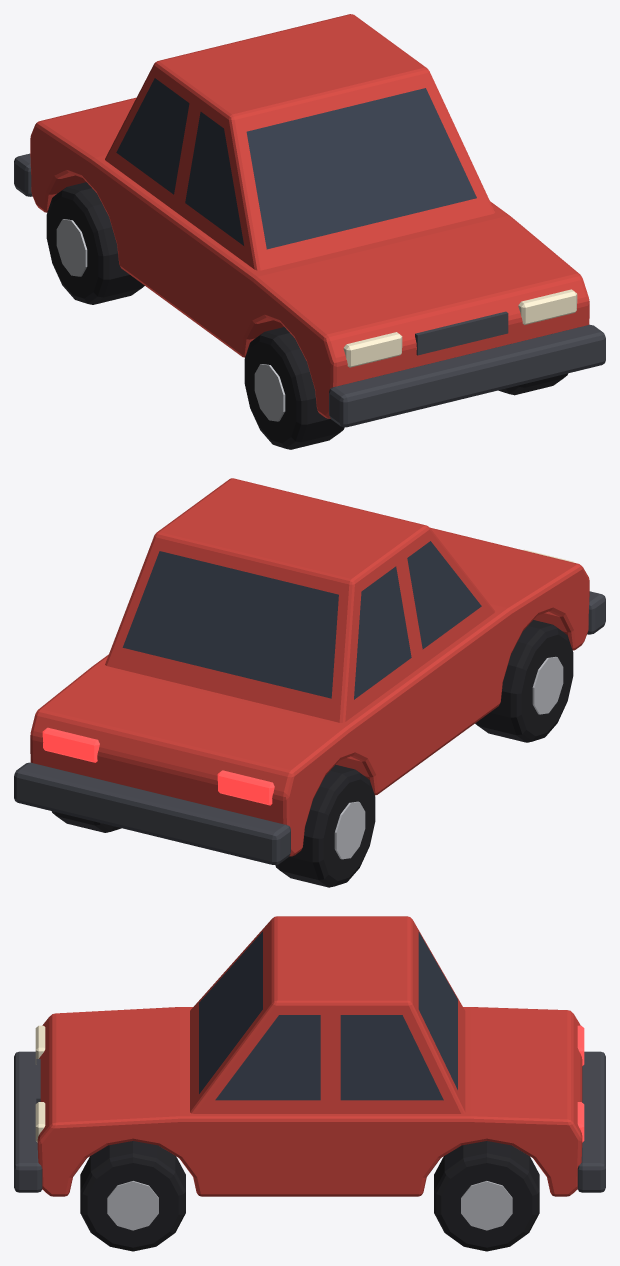
The model's file is Sedan.fbx.
3 views of the same model, one above another, from view 1: azimuth 30°, elevation 25°; view 2: azimuth 150°, elevation 25°; view 3: azimuth 270°, elevation 25° (orthographic). The views are drawn at different scales.
Visible parts, largest first — view 1: Body, Windows, BumperFront, WheelFR, WheelRR, Grille, HeadlightL, HeadlightR, HubcapFR, HubcapRR, BumperRear; view 2: Body, Windows, BumperRear, WheelRR, WheelFR, HubcapFR, HubcapRR, TaillightL, TaillightR, BumperFront, WheelRL; view 3: Body, Windows, WheelFL, WheelRL, BumperRear, BumperFront, HubcapFL, HubcapRL.
Part boxes in pixels (x1,y1,x2,y2): Body: (30,14,589,418); Windows: (116,78,476,249); BumperFront: (329,324,605,427); WheelFR: (244,327,344,449); WheelRR: (46,182,144,304); Grille: (415,311,508,355); HeadlightL: (518,289,577,324); HeadlightR: (343,332,402,367); HubcapFR: (254,364,285,421); HubcapRR: (56,219,87,276); BumperRear: (14,153,32,196); Body: (30,478,589,856); Windows: (122,541,481,699); BumperRear: (14,762,290,864); WheelRR: (275,764,375,887); WheelFR: (475,620,573,742); HubcapFR: (532,656,563,714); HubcapRR: (334,801,365,859); TaillightL: (42,727,99,762); TaillightR: (217,770,274,805); BumperFront: (587,591,605,634); WheelRL: (51,811,121,832); Body: (37,916,582,1196); Windows: (199,931,457,1100); WheelFL: (80,1141,185,1251); WheelRL: (434,1141,539,1251); BumperRear: (577,1051,605,1192); BumperFront: (14,1051,42,1192); HubcapFL: (107,1181,158,1230); HubcapRL: (461,1181,512,1230).
Size of the model in its own units: 8 by 7.2 by 16.4.
